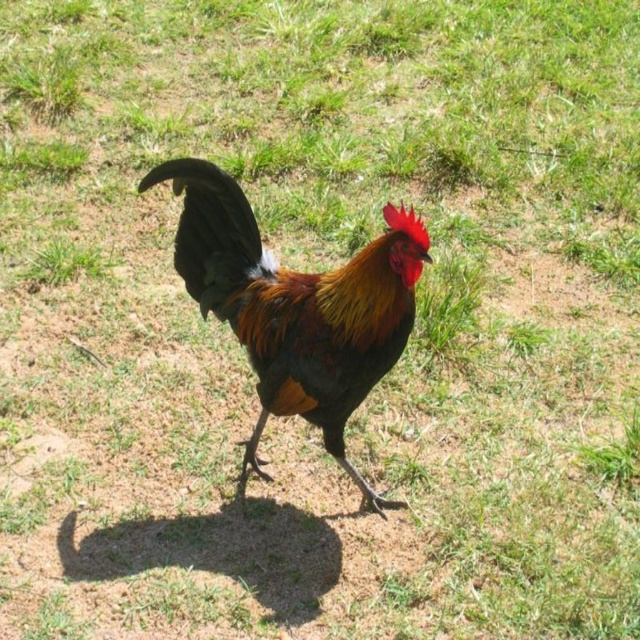Chicken: (138, 158, 433, 521)
